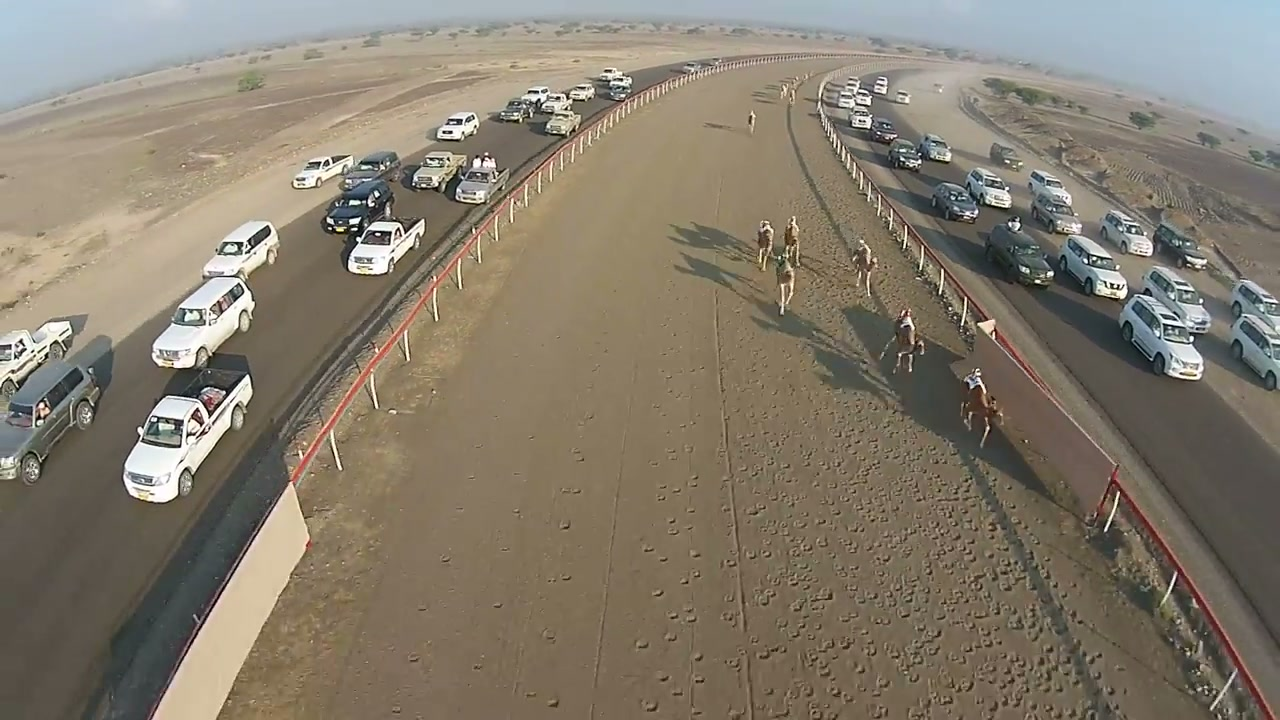animal_foot_print: (693, 367, 1148, 719)
